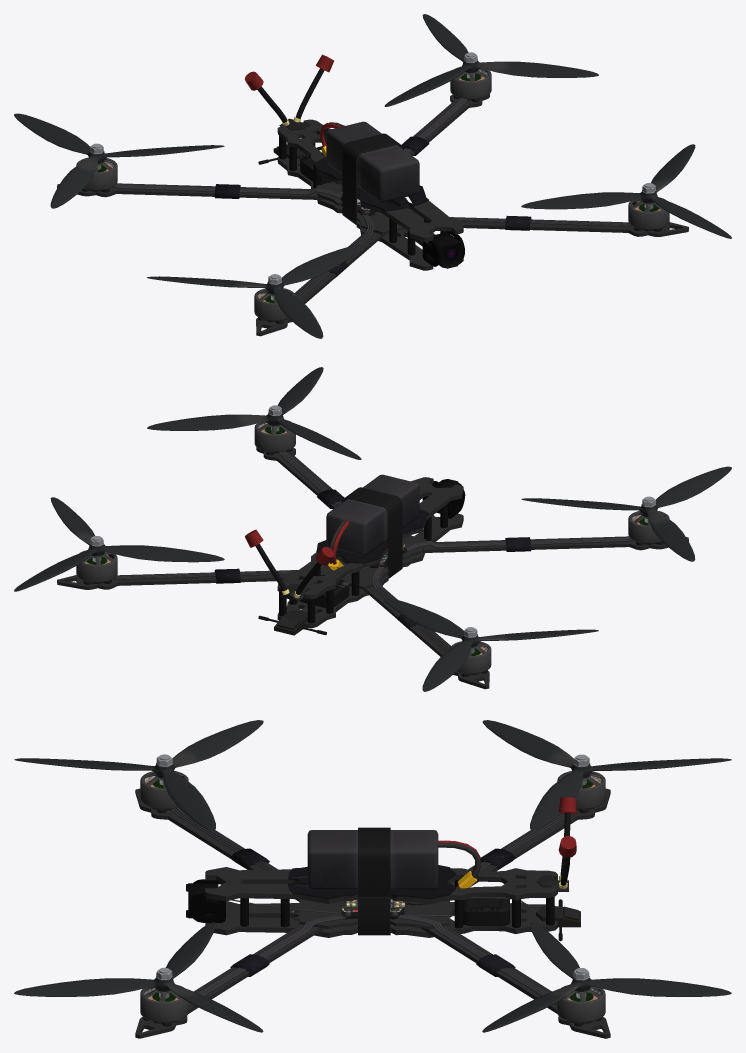
File: fpv.glb
The picture shows the model from 3 angles, top to bottom: view 1: azimuth 30°, elevation 25°; view 2: azimuth 150°, elevation 25°; view 3: azimuth 270°, elevation 25°; orthographic projection. The views are drawn at different scales.
Visible parts, largest first — view 1: Motor_Top, Frame_Top, Electronics, Motor_Rotor; view 2: Motor_Top, Frame_Top, Electronics, Motor_Rotor; view 3: Frame_Top, Motor_Top, Electronics, Motor_Rotor.
Boxes of the visible parts, box(x1,y1,x2,y2) form: Motor_Top: box(14, 14, 731, 338); Frame_Top: box(57, 94, 688, 336); Electronics: box(113, 54, 631, 298); Motor_Rotor: box(82, 71, 662, 323); Motor_Top: box(14, 367, 731, 691); Frame_Top: box(57, 447, 688, 689); Electronics: box(114, 451, 632, 651); Motor_Rotor: box(83, 425, 663, 676); Frame_Top: box(135, 788, 610, 1038); Motor_Top: box(14, 720, 731, 1032); Electronics: box(171, 797, 576, 1005); Motor_Rotor: box(143, 777, 602, 1026).
Bounding box in the file's own units: 5.09 × 0.8074 × 4.94.
5 materials, 5 textured.
